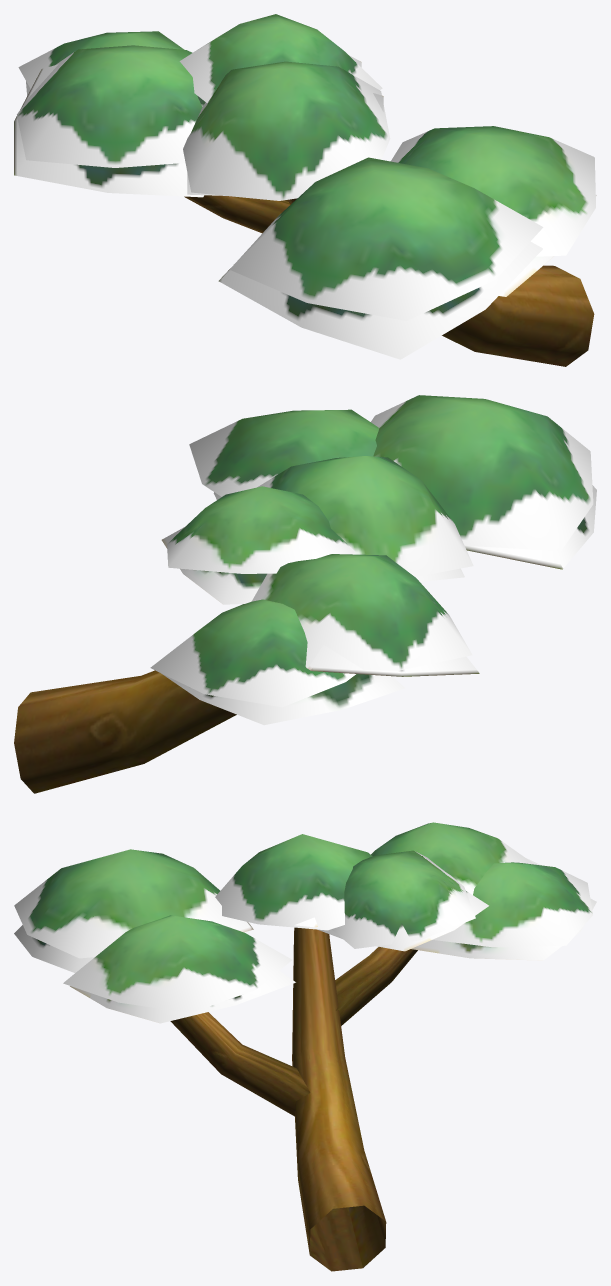
File: gonghui_shu_01 (4).fbx
3 renders of one model, top to bottom at view 1: azimuth 30°, elevation 25°; view 2: azimuth 150°, elevation 25°; view 3: azimuth 270°, elevation 25°, orthographic. The views are drawn at different scales.
Parts seen in each view (by area): view 1: gonghui_shu_01 (4), Cylinder049; view 2: gonghui_shu_01 (4), Cylinder049; view 3: gonghui_shu_01 (4), Cylinder049.
Part boxes in pixels (<box>): gonghui_shu_01 (4): <box>14,14,596,359</box>; Cylinder049: <box>184,195,594,366</box>; gonghui_shu_01 (4): <box>150,395,596,725</box>; Cylinder049: <box>14,670,236,793</box>; gonghui_shu_01 (4): <box>14,822,596,1023</box>; Cylinder049: <box>170,927,417,1271</box>.
Bounding box in the file's own units: 4.32 × 3.12 × 5.21.
